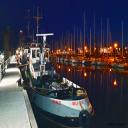tugboat: (22, 30, 96, 128)
